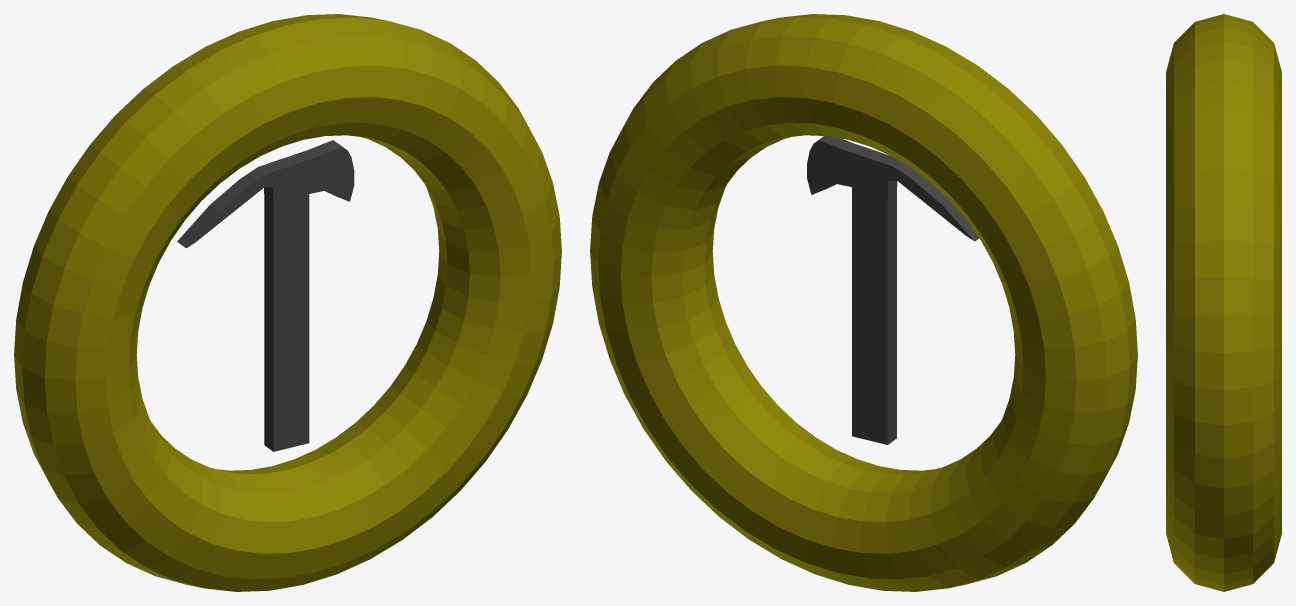
Rendered from tooldropicon.glb.
3 renders of one model, left to right at view 1: azimuth 30°, elevation 25°; view 2: azimuth 150°, elevation 25°; view 3: azimuth 270°, elevation 25°, orthographic. The views are drawn at different scales.
Visible parts, largest first — view 1: Plane; view 2: Plane; view 3: Plane.
Part boxes in pixels (x1,y1,x2,y2): Plane: [14, 14, 561, 591]; Plane: [590, 14, 1137, 591]; Plane: [1166, 14, 1281, 591].
Bounding box in the file's own units: 2.5 × 2.5 × 0.5.
